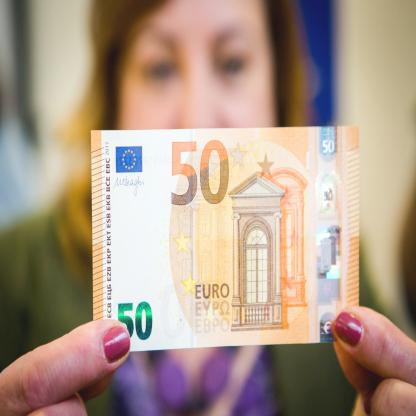euro_banknote: (92, 129, 364, 350)
